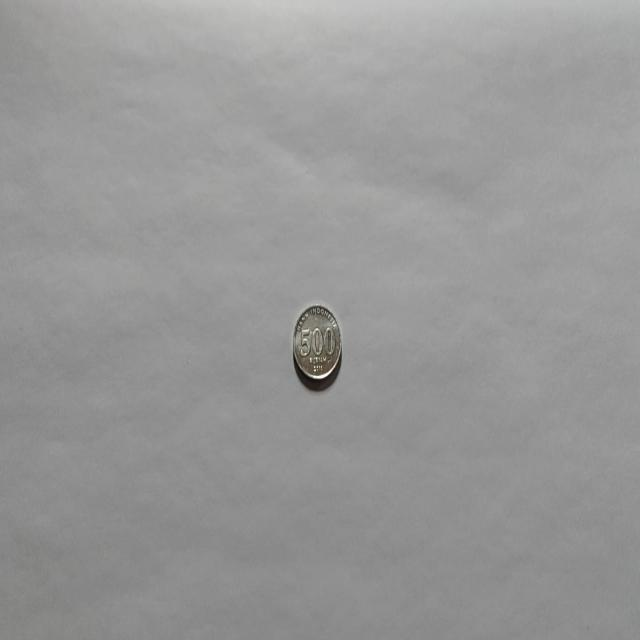lima ratus rupiah: (292, 302, 342, 390)
